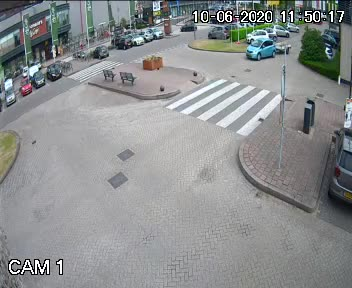car: (244, 36, 273, 59), (180, 20, 195, 34)
